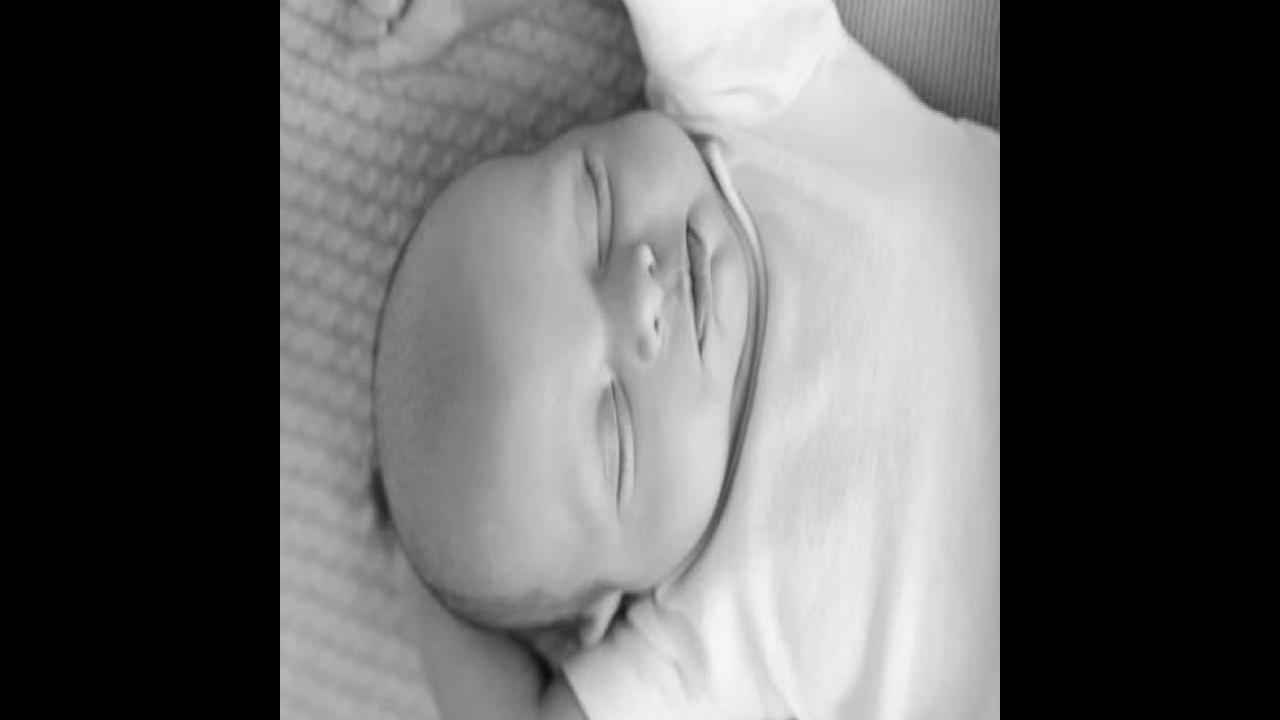hand: (349, 0, 458, 77)
